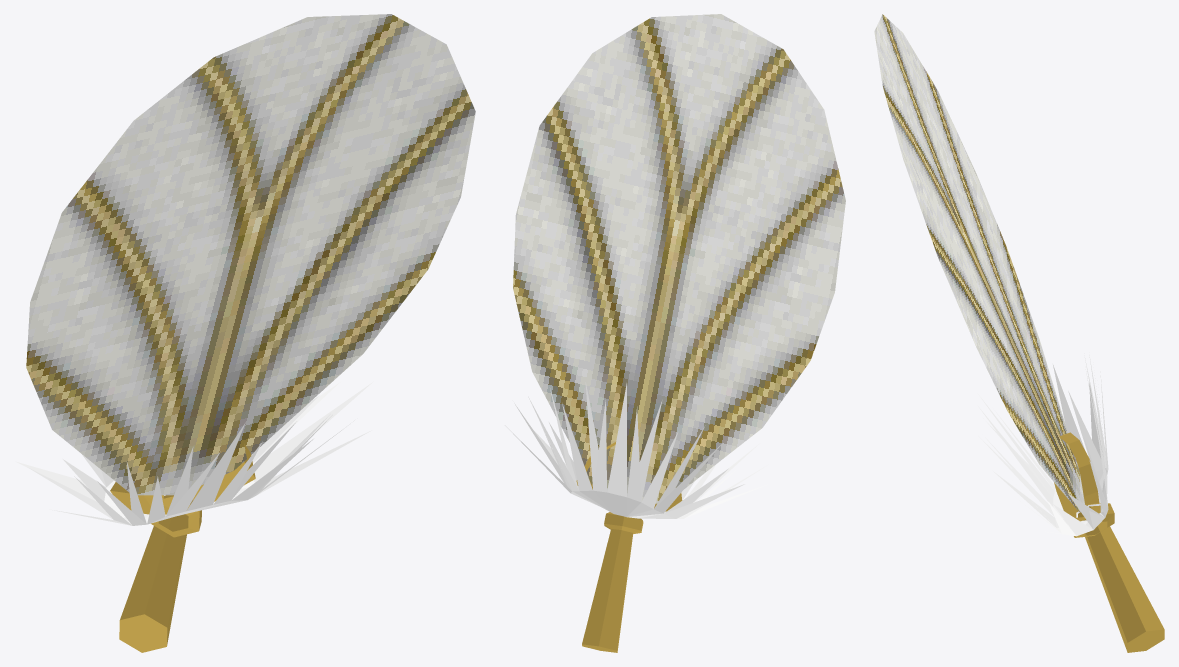
Rendered from ps2_save-icons_kitakatakenzousangokushi.glb.
3 renders of one model, left to right at view 1: azimuth 30°, elevation 25°; view 2: azimuth 150°, elevation 25°; view 3: azimuth 270°, elevation 25°, orthographic. The views are drawn at different scales.
Parts seen in each view (by area): view 1: static.ico; view 2: static.ico; view 3: static.ico.
Boxes of the visible parts, box(x1,y1,x2,y2) form: static.ico: box(15, 14, 475, 652); static.ico: box(505, 14, 845, 652); static.ico: box(874, 14, 1164, 652).
Bounding box in the file's own units: 2.78 × 4.59 × 1.96.
Materials: 1 (1 with a texture image).
